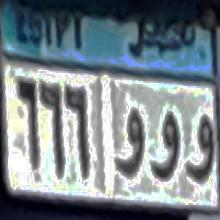6: (64, 84, 91, 180), (38, 81, 64, 176), (15, 75, 40, 173)
waw: (112, 100, 146, 180), (150, 107, 181, 188), (187, 105, 215, 190)
